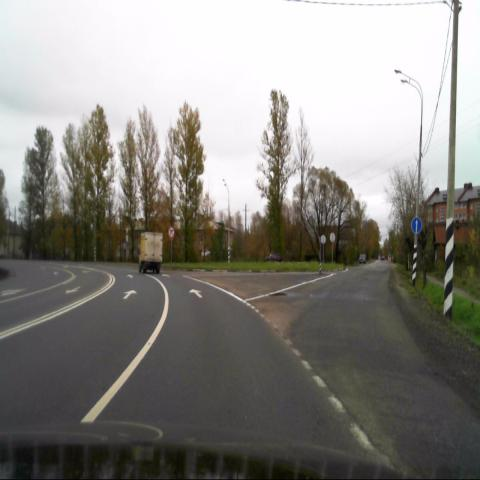4_1_1: (412, 215, 421, 233)
